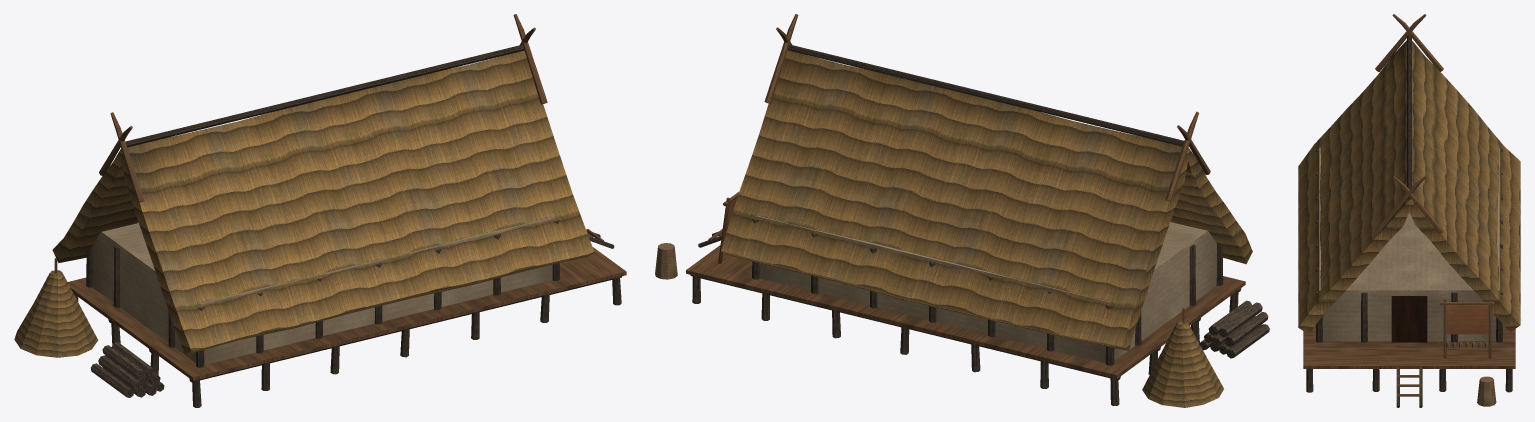
The model's file is casa_impalcato_media_b.glb.
3 views of the same model, side by side, from view 1: azimuth 30°, elevation 25°; view 2: azimuth 150°, elevation 25°; view 3: azimuth 270°, elevation 25° (orthographic). The views are drawn at different scales.
Parts seen in each view (by area): view 1: casa_impalcato_media_b; view 2: casa_impalcato_media_b; view 3: casa_impalcato_media_b.
Boxes of the visible parts, x1,y1,x2,y2 form: casa_impalcato_media_b: (14,14,626,407); casa_impalcato_media_b: (655,14,1269,407); casa_impalcato_media_b: (1298,14,1520,407).
Size of the model in its own units: 16.33 by 6.96 by 6.9.
Materials: 7 (7 with a texture image).
